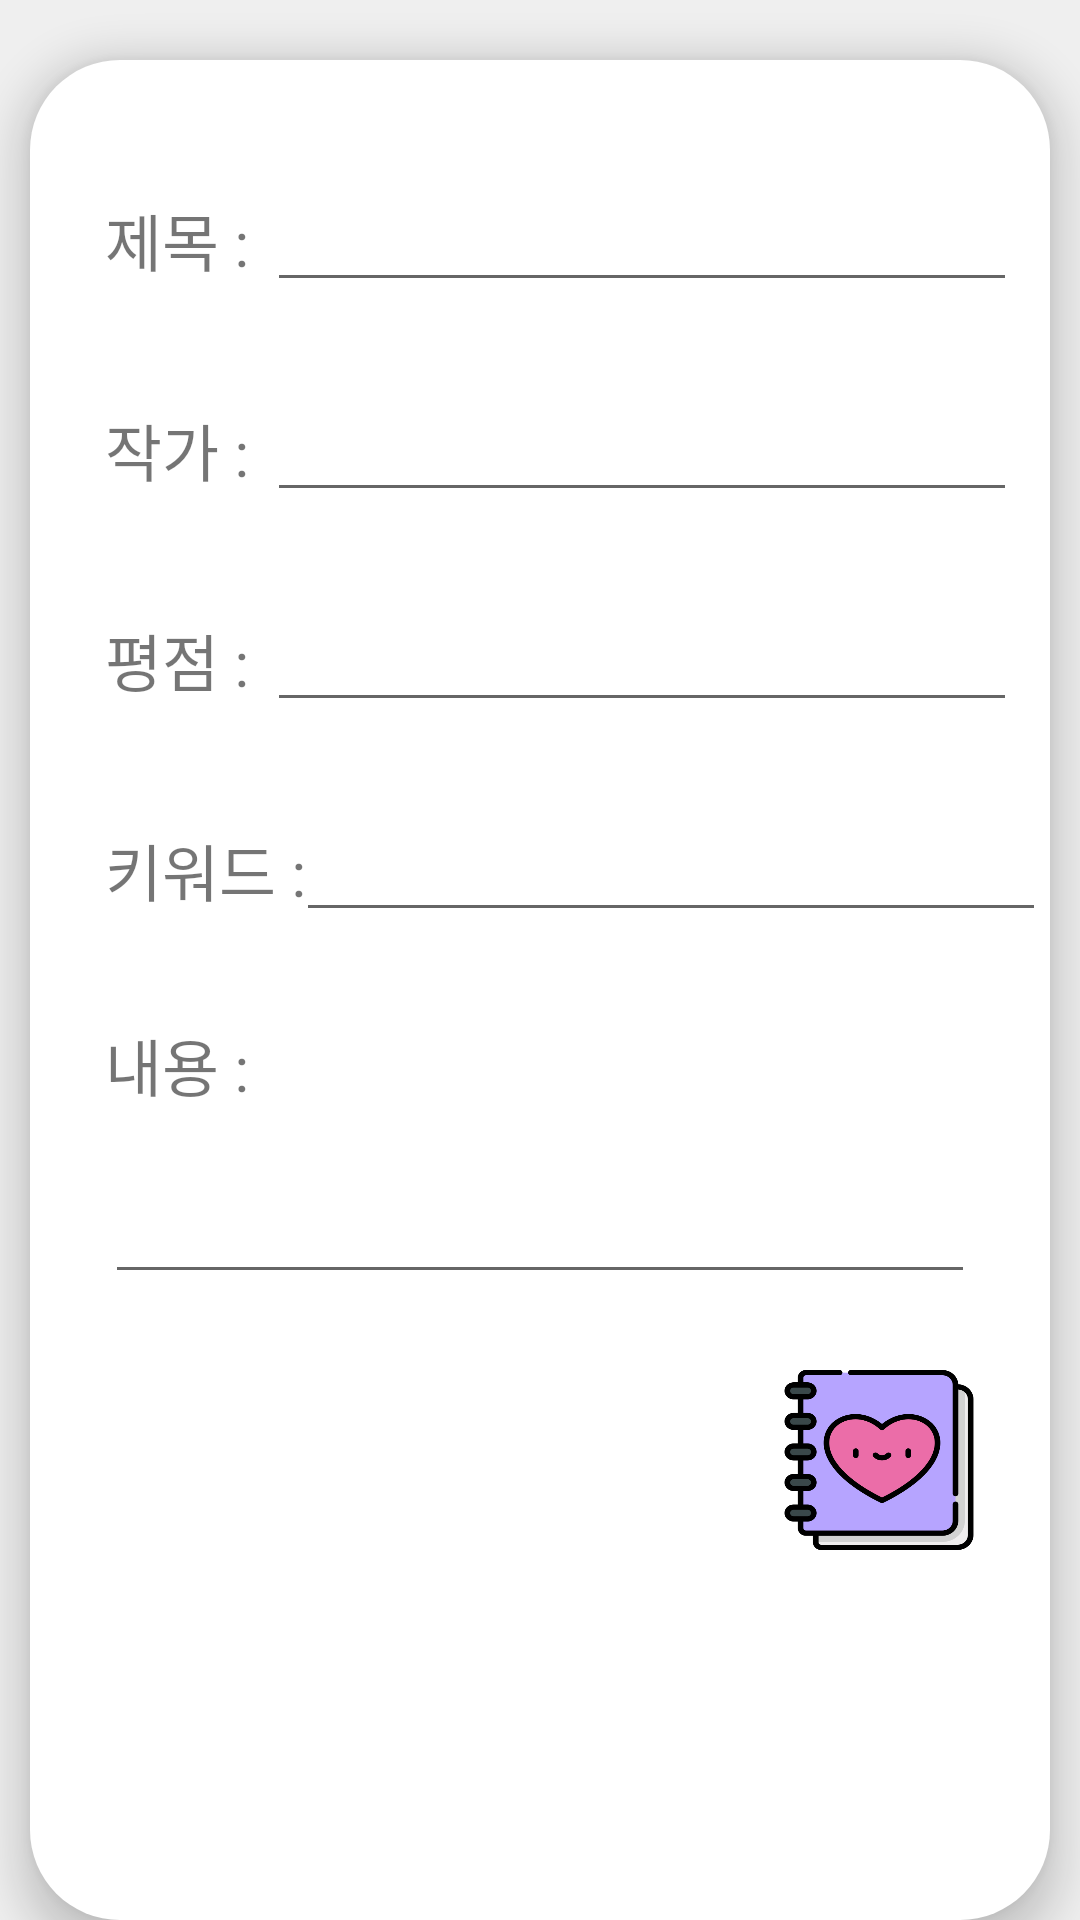

Icons on this 1080 × 1920 Android screen, each with the point to tap as (x,y):
notebook: (879,1460)
